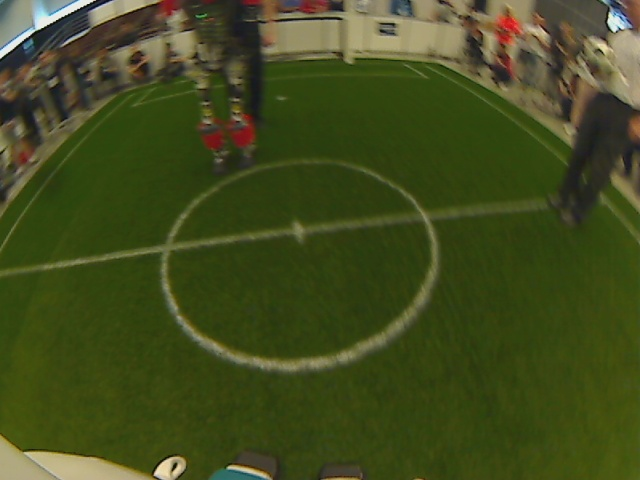ball: (579, 35, 614, 73)
